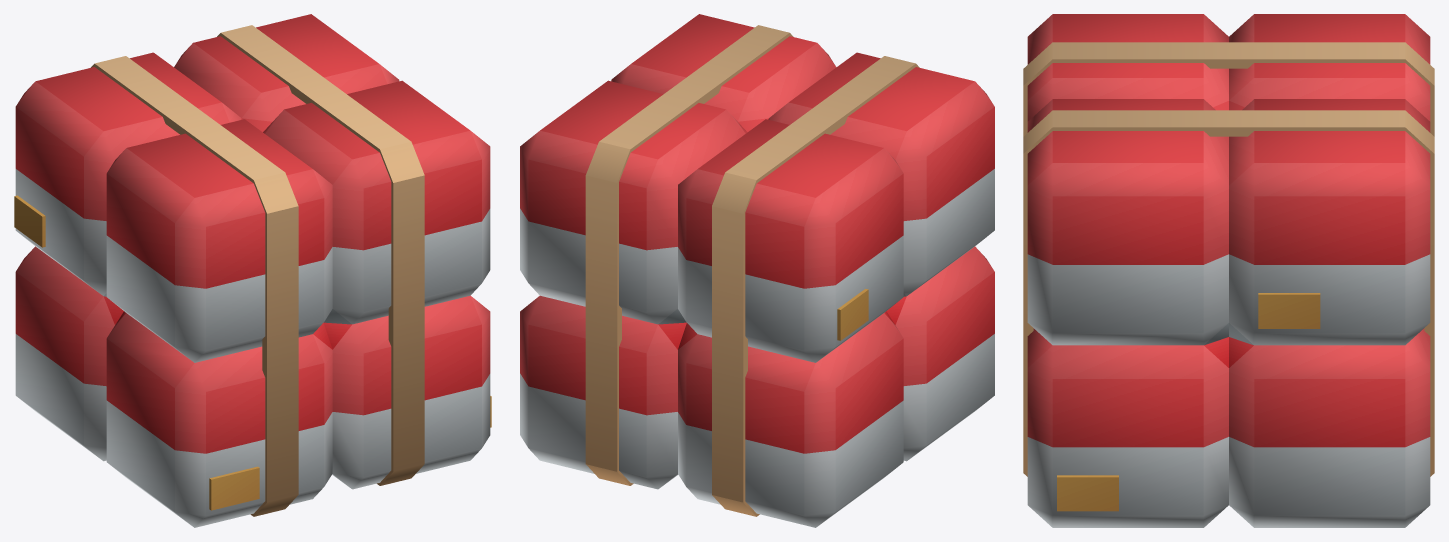
The model's file is kk_cargo_a_stacked.glb.
The picture shows the model from 3 angles, left to right: view 1: azimuth 30°, elevation 25°; view 2: azimuth 150°, elevation 25°; view 3: azimuth 270°, elevation 25°; orthographic projection. The views are drawn at different scales.
Visible parts, largest first — view 1: cargo_A_stacked; view 2: cargo_A_stacked; view 3: cargo_A_stacked.
Boxes of the visible parts, left/top/right/bottom form: cargo_A_stacked: left=14, top=14, right=491, bottom=527; cargo_A_stacked: left=520, top=14, right=994, bottom=527; cargo_A_stacked: left=1023, top=14, right=1434, bottom=527.
Bounding box in the file's own units: 2.2 × 2.2 × 2.2.
1 material, 1 textured.
